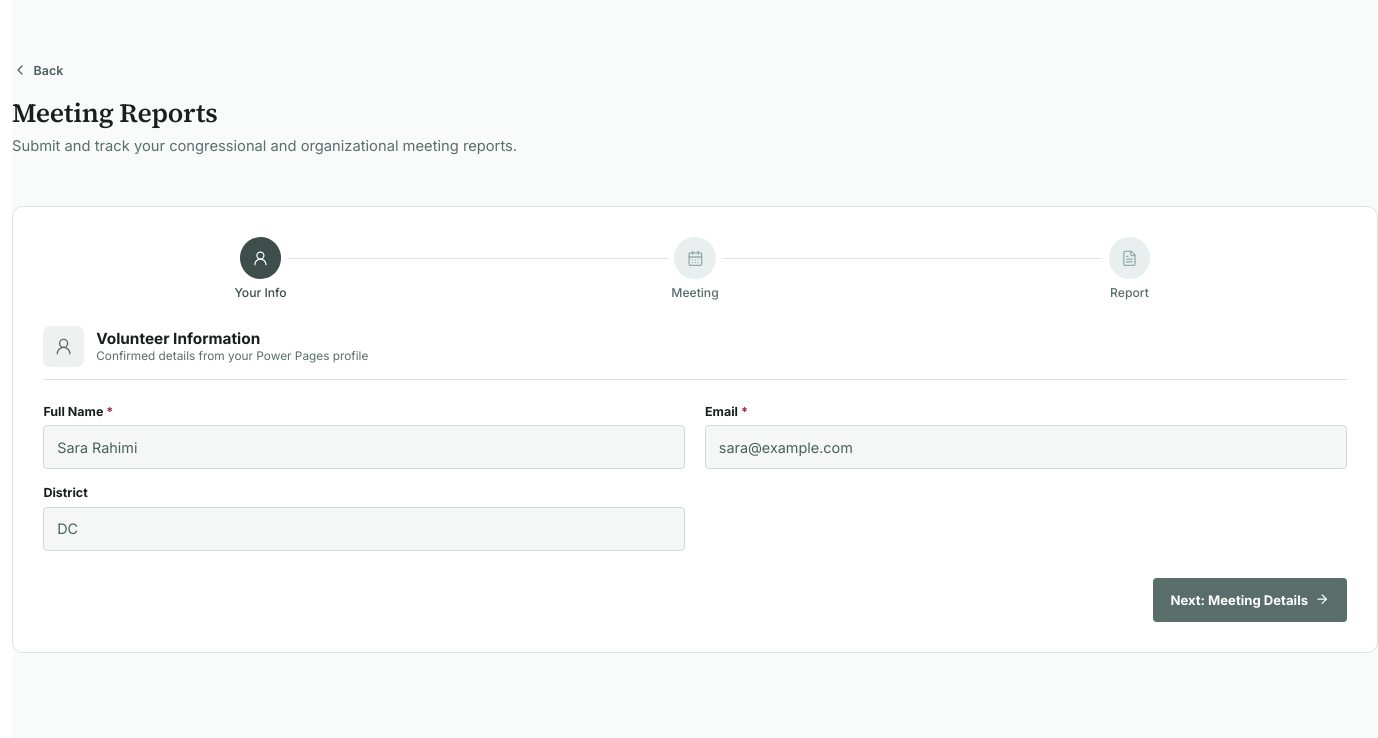
requires an end date and time later than the start date and time
Expected: the field showing "Sara Rahimi" is shown, [43,425,685,469]
Click the button "Next: Meeting Details" at (1250,600), box [1154,578,1347,622]
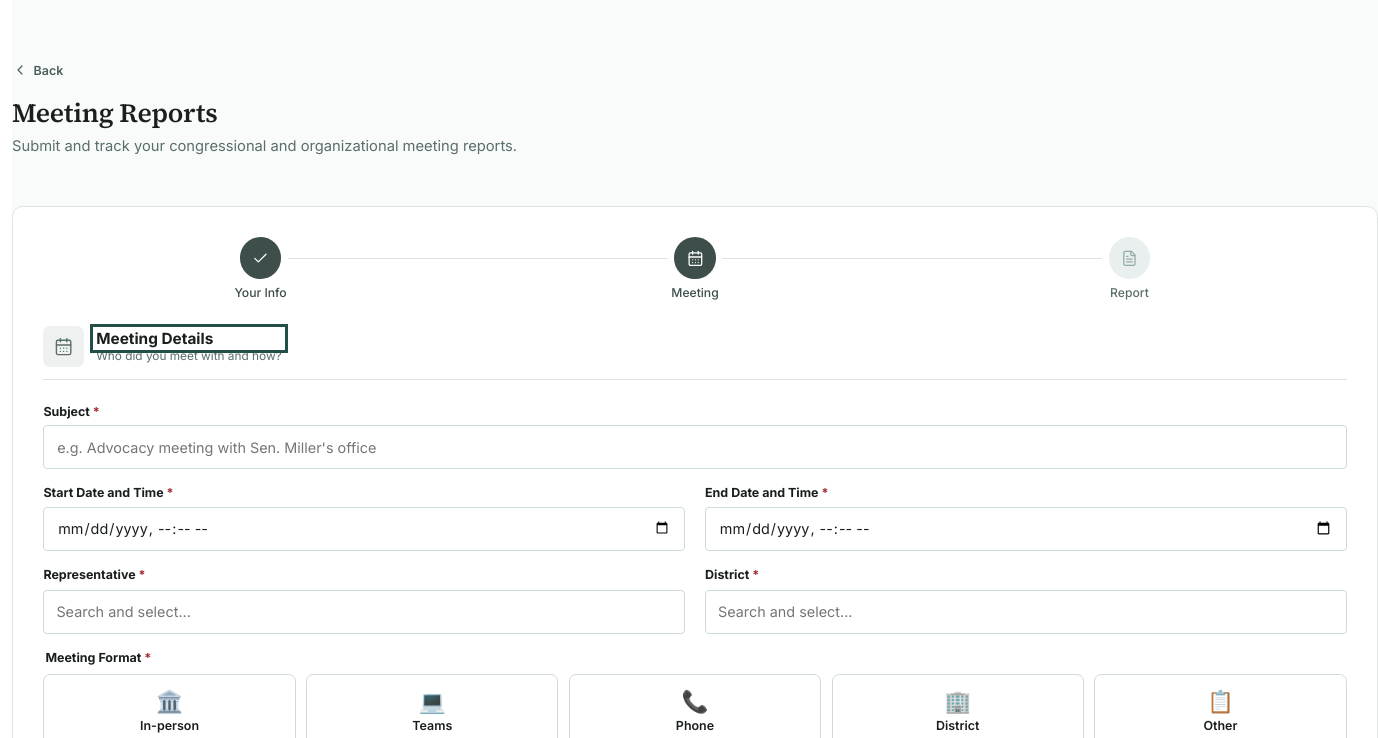
Type "Invalid time range" into the field labelled "Subject" at (695,447), box [43,425,1347,469]
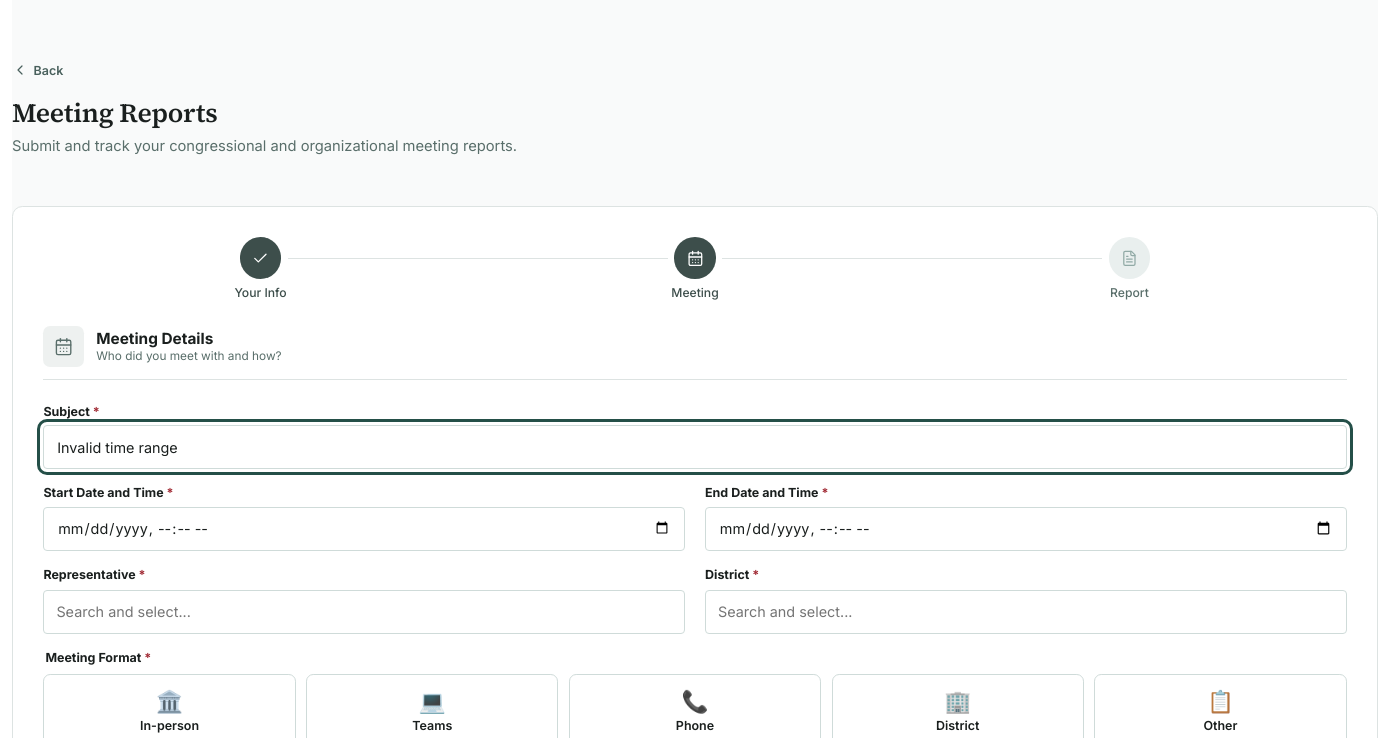
Type "2026-09-01T11:00" into the field labelled "Start Date and Time" at (364,528), box [43,506,685,550]
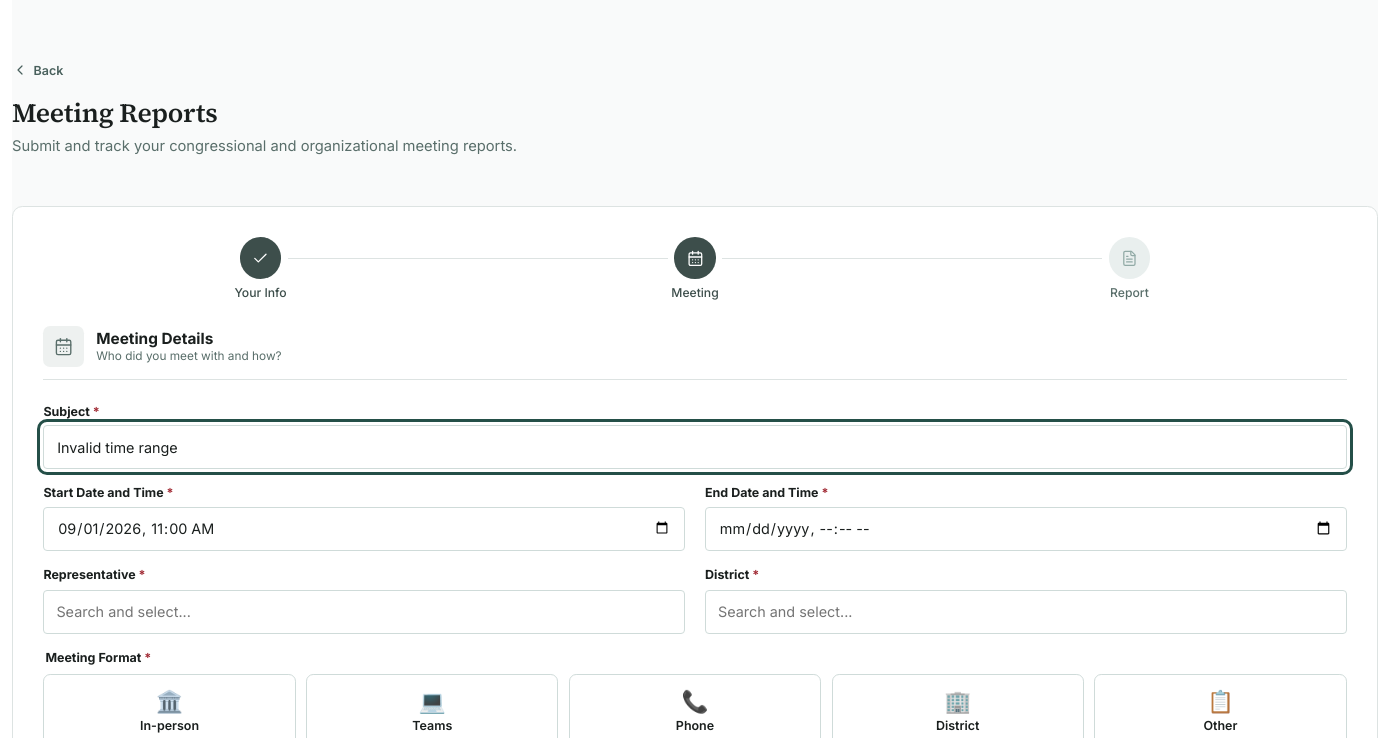
Type "2026-09-01T10:00" into the field labelled "End Date and Time" at (1026,528), box [705,506,1347,550]
(page scrolled)
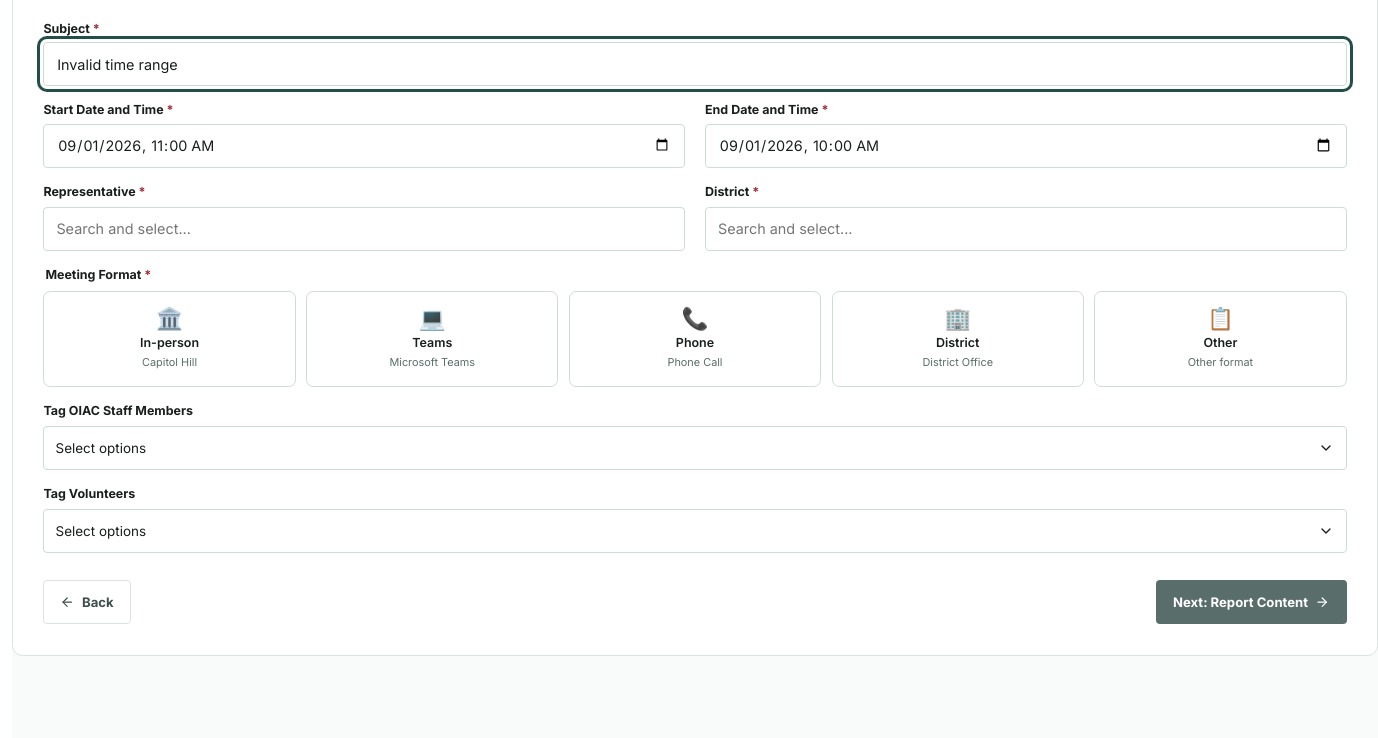
Click the button "Next: Report Content" at (1251,602), box [1156,580,1347,624]
(page scrolled)
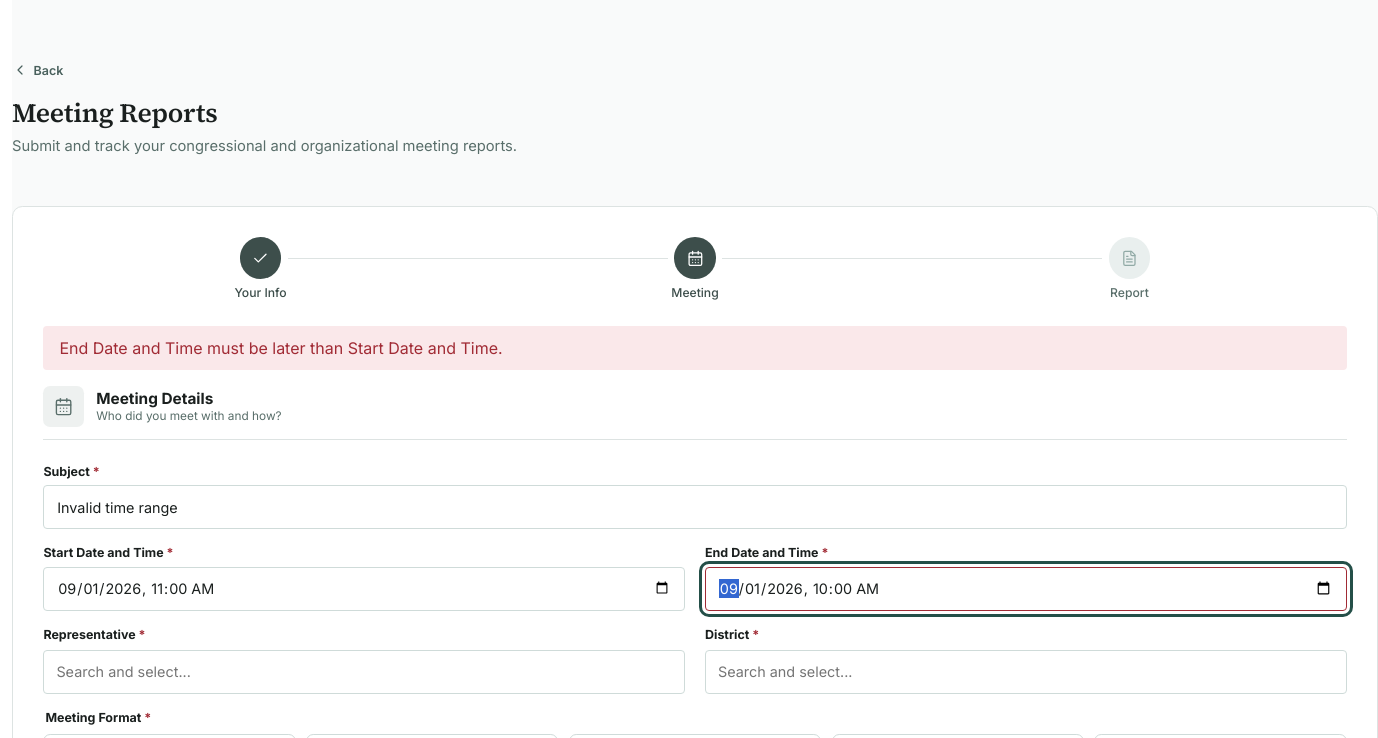
Expected: the heading "Meeting Details" is shown, [96,389,213,408]
Expected: the message reads "End Date and Time must be later than Start Date and Time.", [59,338,503,358]
